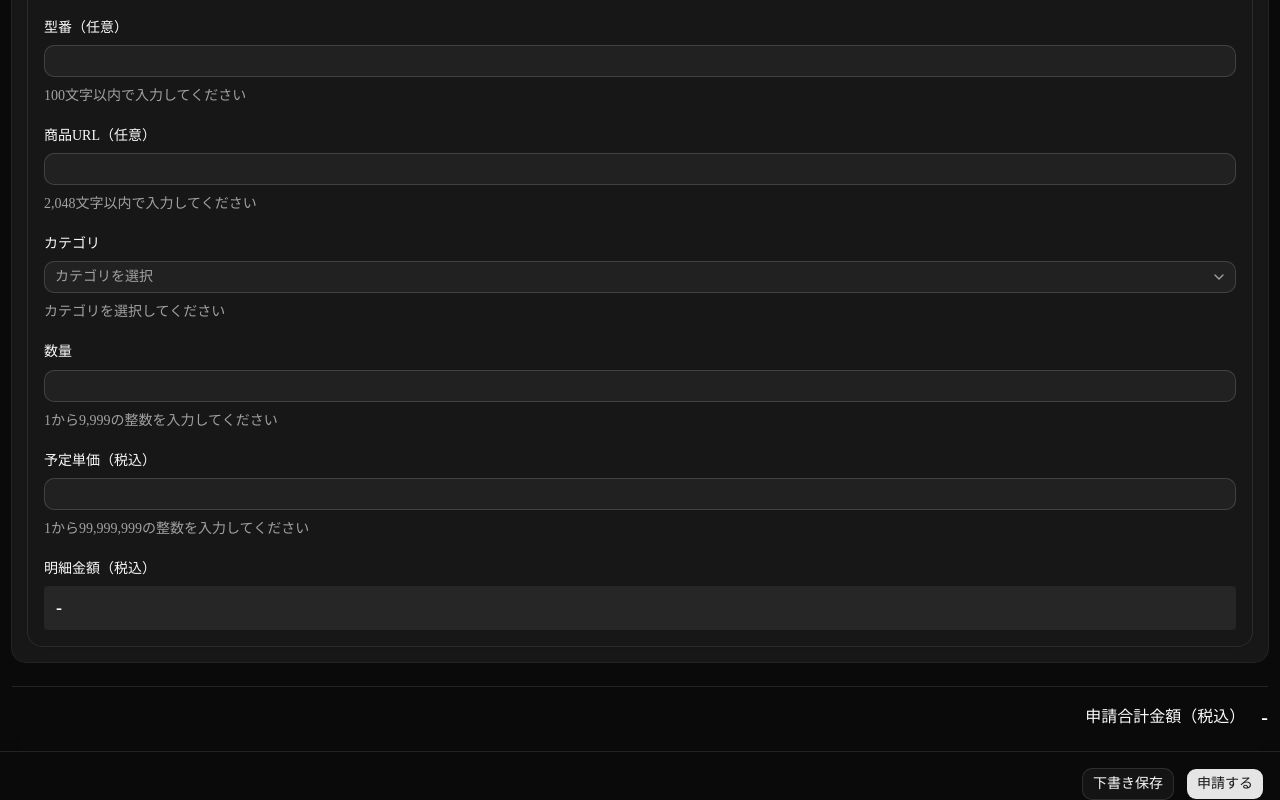
CreateRequestForm › 何も入力せず下書き保存するとエラーメッセージを表示する
The image size is (1280, 800).
(page scrolled)
Click the button "下書き保存".
click(1128, 784)  # box [1082,768,1174,799]
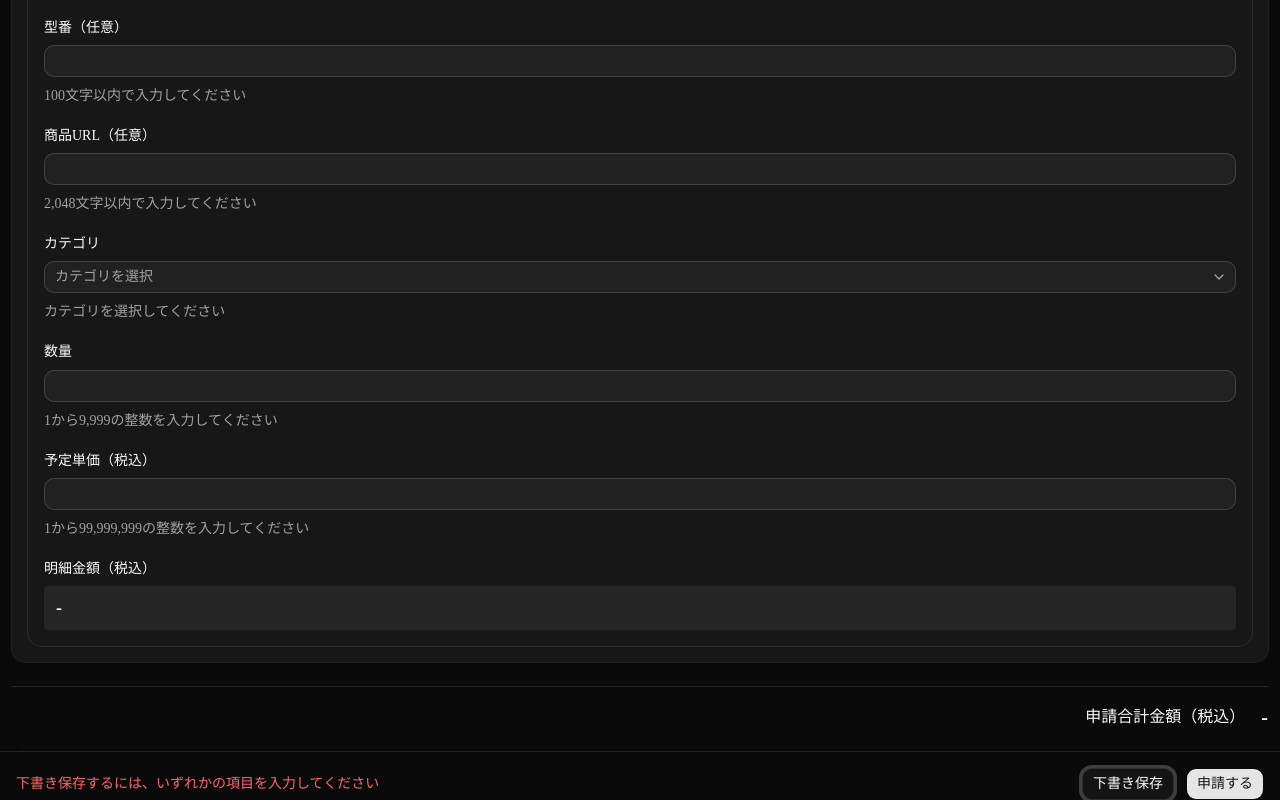
Expected: the text "下書き保存するには、いずれかの項目を入力してください" is shown, [16,774,379,794]
